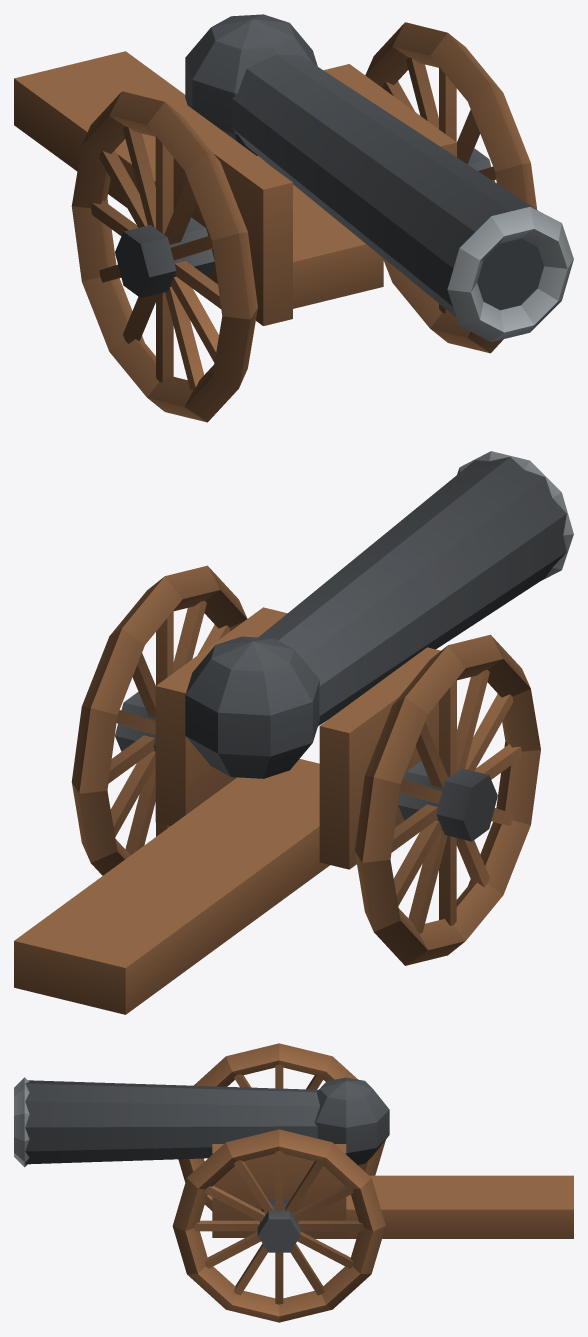
The model's file is CANNON.glb.
3 renders of one model, top to bottom at view 1: azimuth 30°, elevation 25°; view 2: azimuth 150°, elevation 25°; view 3: azimuth 270°, elevation 25°, orthographic. The views are drawn at different scales.
Visible parts, largest first — view 1: Barrel, Wheel_0, Body, Wheel_1; view 2: Body, Barrel, Wheel_0, Wheel_1; view 3: Barrel, Wheel_1, Body, Wheel_0.
Part boxes in pixels (x1=…): Barrel: x1=185, y1=14, x2=573, y2=341; Wheel_0: x1=71, y1=91, x2=257, y2=422; Body: x1=14, y1=51, x2=456, y2=325; Wheel_1: x1=365, y1=22, x2=537, y2=353; Body: x1=14, y1=607, x2=456, y2=1014; Barrel: x1=185, y1=451, x2=573, y2=778; Wheel_0: x1=355, y1=634, x2=540, y2=965; Wheel_1: x1=71, y1=565, x2=247, y2=875; Barrel: x1=14, y1=1077, x2=389, y2=1167; Wheel_1: x1=172, y1=1129, x2=385, y2=1322; Body: x1=212, y1=1144, x2=573, y2=1238; Wheel_0: x1=178, y1=1043, x2=385, y2=1210.
Size of the model in its own units: 0.936 by 0.818 by 2.09.
1 material, 1 textured.
